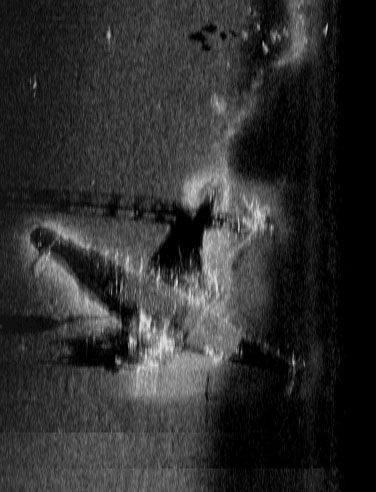plane: (33, 175, 307, 389)
